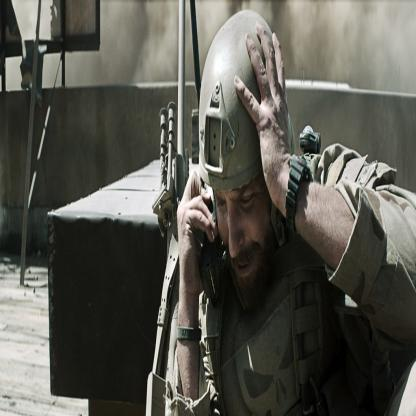Helmet: (199, 21, 276, 222)
